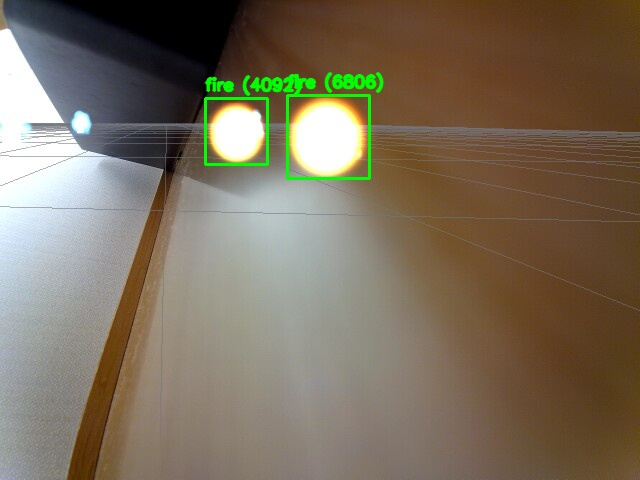fire: (287, 95, 369, 178), (205, 98, 267, 164)
